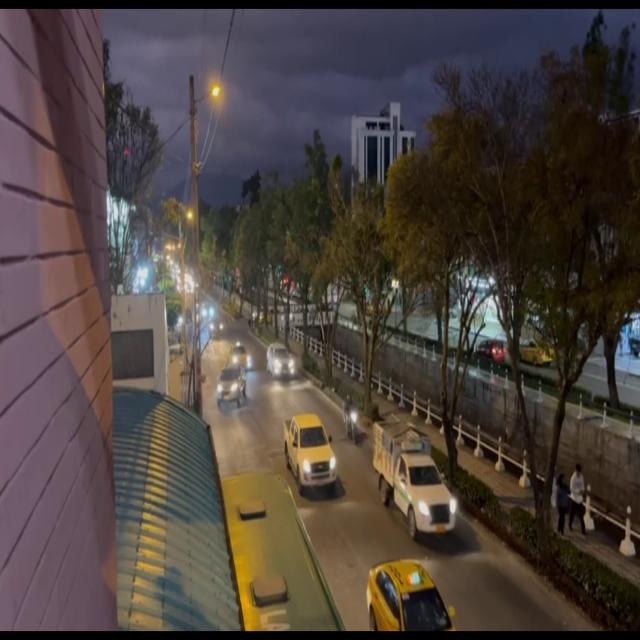CMT: (392, 426, 458, 536), (282, 413, 336, 495)
MOTORCYCLE: (344, 393, 360, 444)
SED: (366, 556, 461, 630)
SUV: (267, 345, 295, 383)
